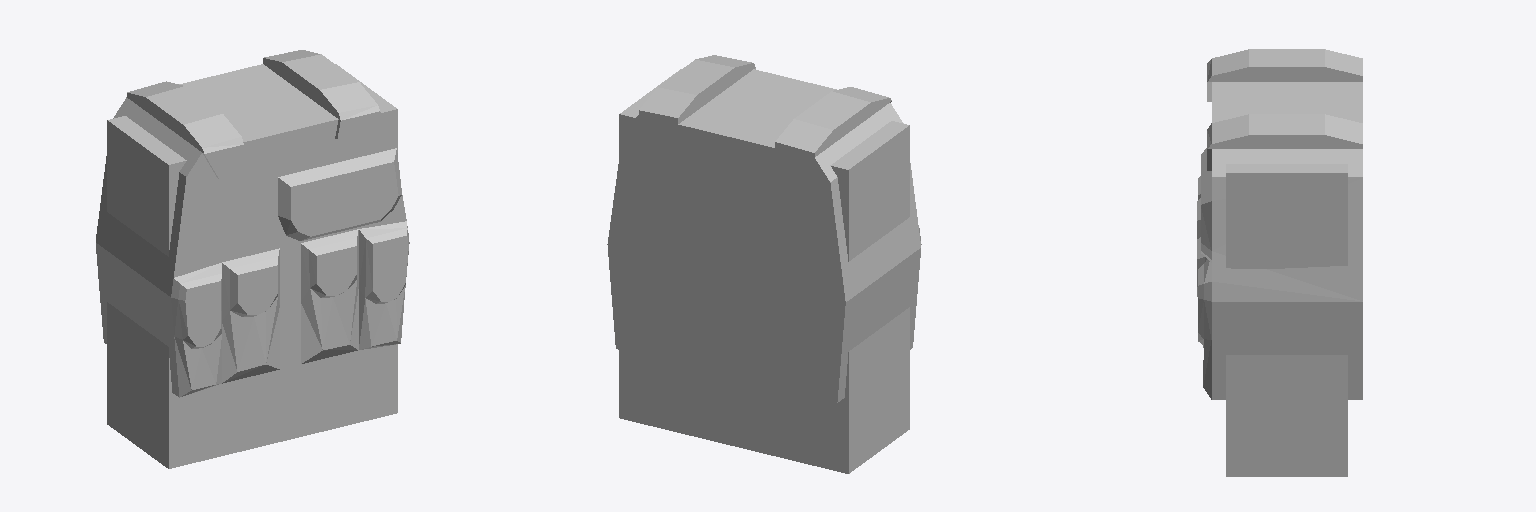
The model's file is arm_kombez_chest.obj.
The picture shows the model from 3 angles: view 1: azimuth 30°, elevation 25°; view 2: azimuth 150°, elevation 25°; view 3: azimuth 270°, elevation 25°; orthographic projection.
Parts seen in each view (by area): view 1: arm_jacket_chest_Cube; view 2: arm_jacket_chest_Cube; view 3: arm_jacket_chest_Cube.
Part boxes in pixels (left/top/right/bottom): arm_jacket_chest_Cube: left=96, top=50, right=409, bottom=468; arm_jacket_chest_Cube: left=607, top=55, right=921, bottom=473; arm_jacket_chest_Cube: left=1197, top=49, right=1362, bottom=476.
Bounding box in the file's own units: 2.33 × 3.09 × 1.4.